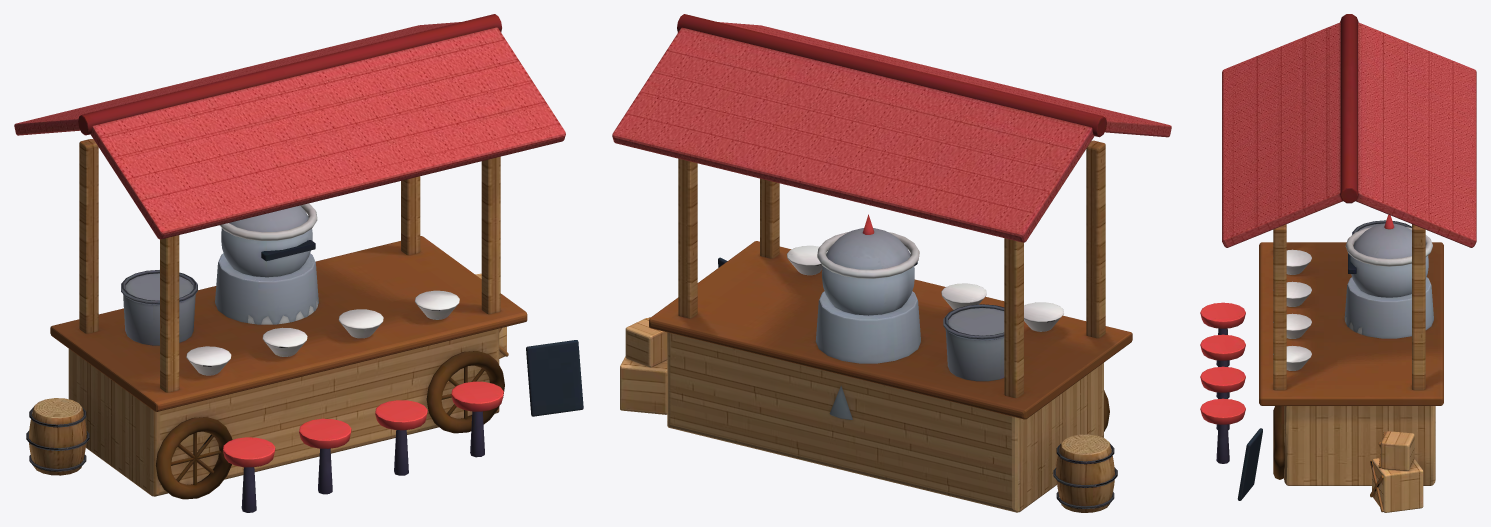
Rendered from ramenStall.glb.
3 views of the same model, side by side, from view 1: azimuth 30°, elevation 25°; view 2: azimuth 150°, elevation 25°; view 3: azimuth 270°, elevation 25° (orthographic). The views are drawn at different scales.
Visible parts, largest first — view 1: Mesh_0; view 2: Mesh_0; view 3: Mesh_0.
Boxes of the visible parts, x1,y1,x2,y2 form: Mesh_0: [14, 14, 583, 512]; Mesh_0: [612, 14, 1171, 512]; Mesh_0: [1200, 14, 1476, 512].
Bounding box in the file's own units: 11.28 × 8.37 × 6.57.
1 material, 1 textured.
